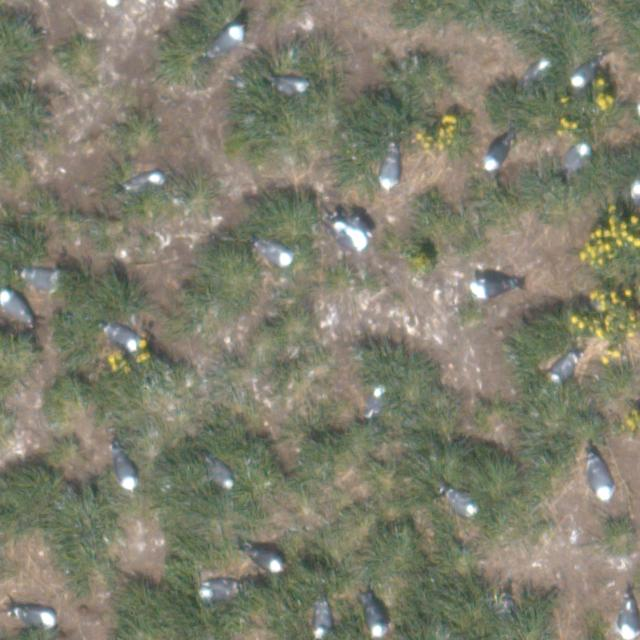umineko: (333, 209, 369, 250), (212, 27, 242, 55), (590, 462, 612, 498), (1, 292, 28, 319), (251, 549, 283, 571), (260, 243, 292, 265), (550, 354, 575, 382), (487, 139, 511, 168), (109, 326, 139, 349), (564, 144, 590, 170), (618, 603, 638, 636), (379, 153, 398, 187), (474, 280, 508, 299), (117, 456, 137, 488), (18, 608, 53, 626), (368, 605, 388, 636), (448, 493, 474, 516), (204, 580, 235, 598), (125, 171, 156, 188), (314, 604, 331, 635), (278, 78, 308, 95), (573, 62, 595, 84), (523, 59, 546, 80), (214, 463, 234, 487), (367, 388, 384, 416)
